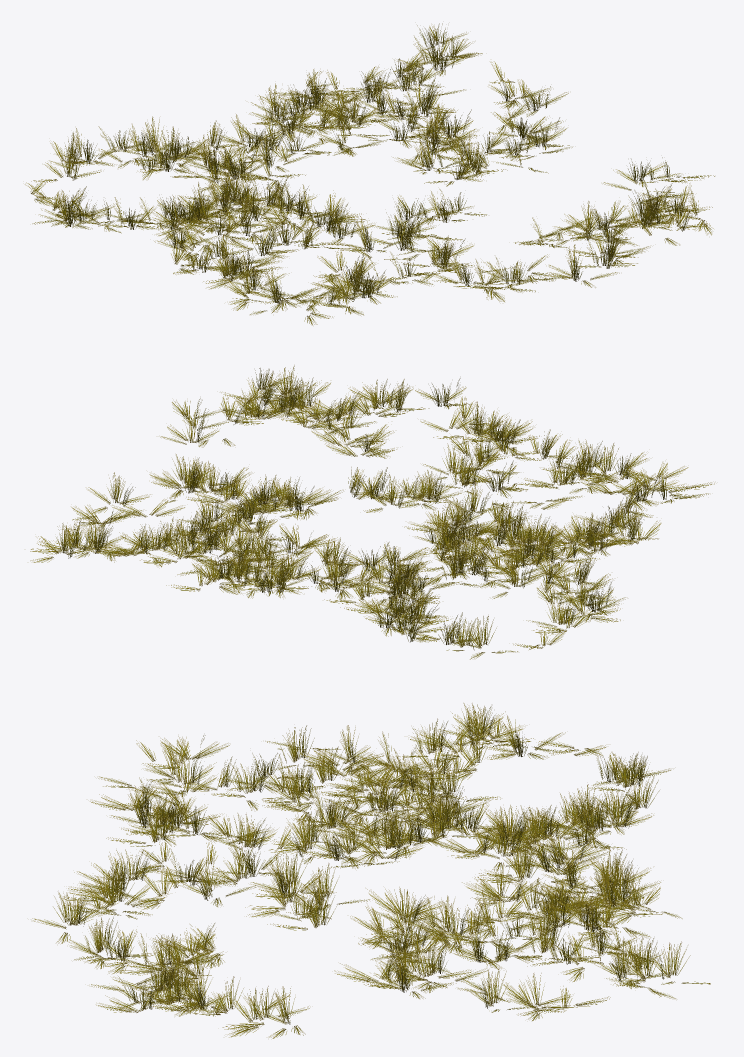
The model's file is dead_grass_lod0.glb.
3 renders of one model, top to bottom at view 1: azimuth 30°, elevation 25°; view 2: azimuth 150°, elevation 25°; view 3: azimuth 270°, elevation 25°, orthographic. The views are drawn at different scales.
Parts seen in each view (by area): view 1: DeadGrass_LOD0_temp; view 2: DeadGrass_LOD0_temp; view 3: DeadGrass_LOD0_temp.
Boxes of the visible parts, <box> form: DeadGrass_LOD0_temp: <box>25,23,714,325</box>; DeadGrass_LOD0_temp: <box>30,365,714,659</box>; DeadGrass_LOD0_temp: <box>32,703,710,1038</box>.
Bounding box in the file's own units: 48 × 4.34 × 44.29.
Materials: 1 (1 with a texture image).
